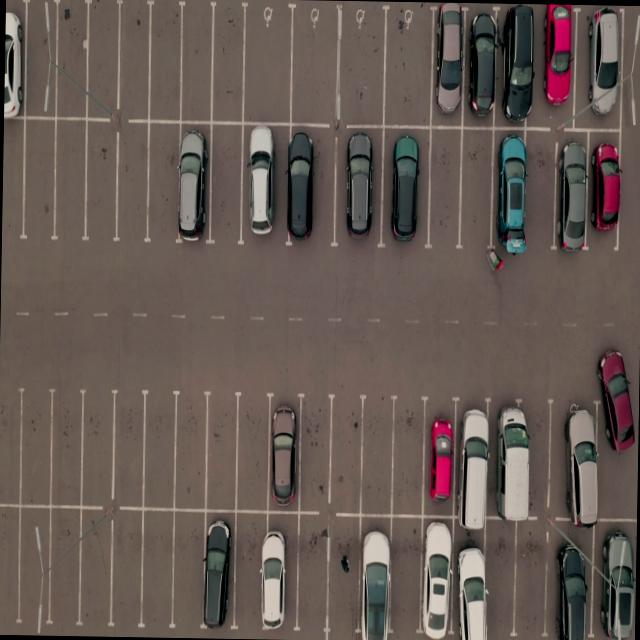car: (548, 392, 597, 520), (284, 128, 335, 248), (487, 396, 536, 518), (576, 7, 624, 128), (383, 125, 432, 242), (334, 129, 382, 247), (242, 126, 288, 246), (545, 528, 591, 640), (537, 4, 578, 124), (456, 397, 496, 518), (496, 7, 535, 128), (490, 130, 528, 253), (418, 517, 456, 639), (258, 509, 296, 631), (428, 8, 466, 128), (453, 517, 490, 640), (356, 513, 392, 639), (420, 397, 458, 516), (597, 525, 636, 640), (178, 126, 215, 246), (264, 393, 302, 509), (555, 132, 591, 248), (466, 11, 501, 128), (201, 510, 235, 630), (586, 132, 618, 242), (3, 0, 25, 117)
free: (242, 3, 294, 124), (381, 6, 432, 128), (291, 8, 343, 124), (337, 6, 387, 126), (40, 508, 84, 627), (16, 121, 56, 244), (145, 1, 185, 122), (208, 3, 248, 124), (50, 0, 91, 118), (514, 518, 554, 636), (51, 123, 90, 244), (80, 124, 119, 244), (75, 392, 115, 509), (74, 508, 113, 628), (115, 0, 154, 120), (114, 125, 153, 245), (173, 393, 213, 509), (46, 392, 86, 508), (140, 391, 180, 507), (109, 393, 149, 509), (459, 128, 497, 250), (207, 124, 246, 242), (13, 390, 52, 508), (180, 2, 218, 123), (81, 0, 120, 117), (143, 125, 181, 245), (110, 509, 148, 629), (12, 506, 50, 626), (326, 516, 364, 636), (235, 393, 274, 509), (137, 510, 175, 629), (390, 398, 428, 514), (294, 395, 332, 510), (356, 400, 394, 514), (201, 394, 239, 508), (327, 396, 365, 510), (292, 514, 328, 634), (230, 512, 266, 632), (426, 126, 462, 245), (172, 511, 208, 630), (390, 516, 425, 638), (482, 519, 517, 639), (18, 0, 54, 115), (526, 129, 559, 249), (2, 122, 26, 244), (0, 381, 23, 503), (0, 506, 20, 627)
